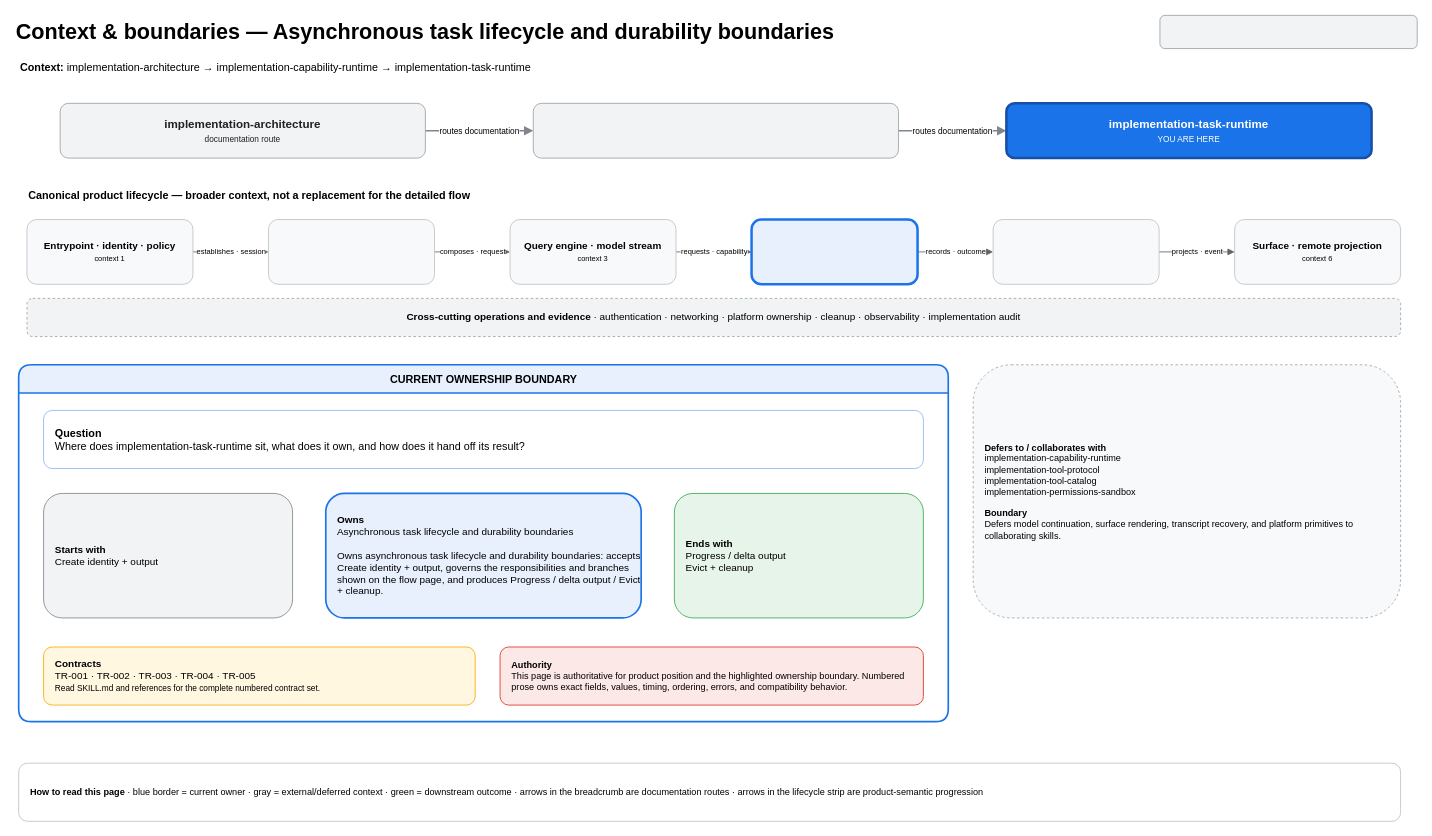
The diagram is 1432 pixels wide and 836 high, and some of its shapes have lost their labels. Here are the shapes that lost their labels. From the top down, the centre of each, then its label:
At pixel 1288 32: "architecture overview · template 2.0-context-flow".
At pixel 715 130: "implementation-capability-runtime documentation route".
At pixel 351 251: "Session state · registries · context context 2".
At pixel 834 251: "Capability decision · execution YOU ARE HERE".
At pixel 1075 251: "Transcript · tasks · continuity context 5".
